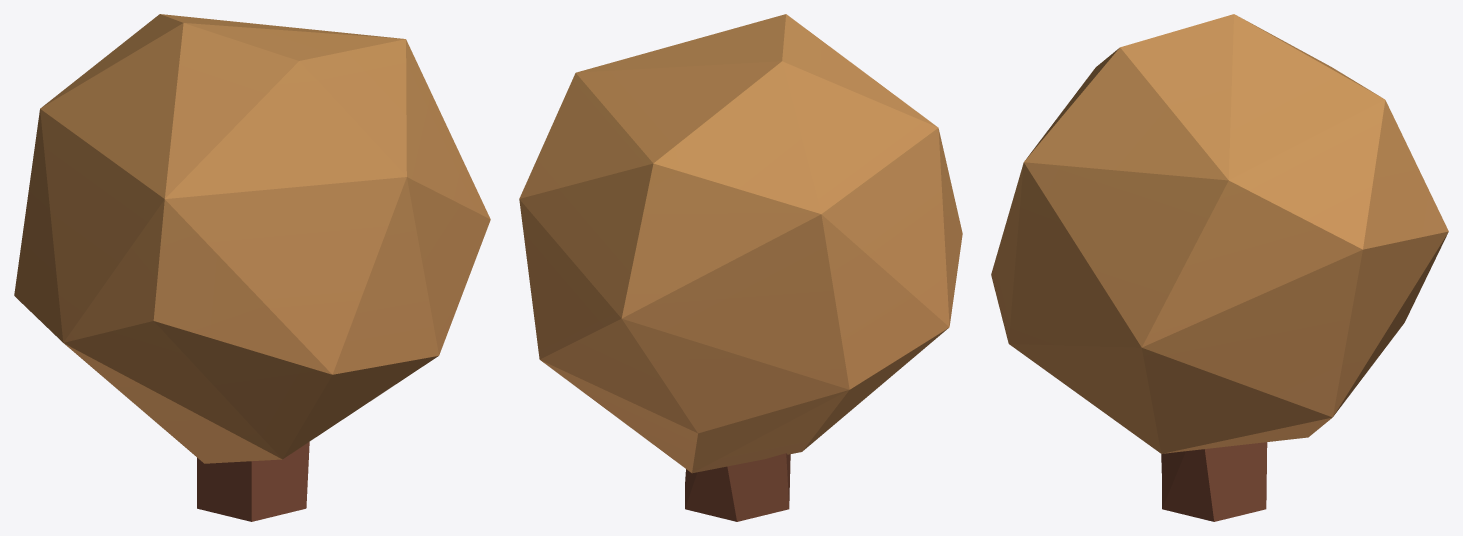
Rendered from Bush_3_gradient_yellow_vc.fbx.
The picture shows the model from 3 angles, left to right: view 1: azimuth 30°, elevation 25°; view 2: azimuth 150°, elevation 25°; view 3: azimuth 270°, elevation 25°; orthographic projection. The views are drawn at different scales.
Visible parts, largest first — view 1: Bush_3_gradient_yellow_vc; view 2: Bush_3_gradient_yellow_vc; view 3: Bush_3_gradient_yellow_vc.
Boxes of the visible parts, x1,y1,x2,y2 form: Bush_3_gradient_yellow_vc: [14, 14, 490, 521]; Bush_3_gradient_yellow_vc: [519, 14, 962, 521]; Bush_3_gradient_yellow_vc: [991, 14, 1448, 521].
Bounding box in the file's own units: 35 × 39.36 × 35.84.
